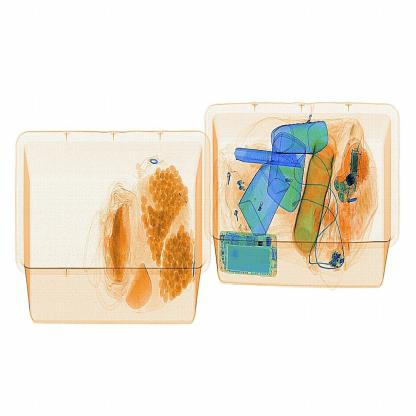pliers: (233, 145, 306, 171)
